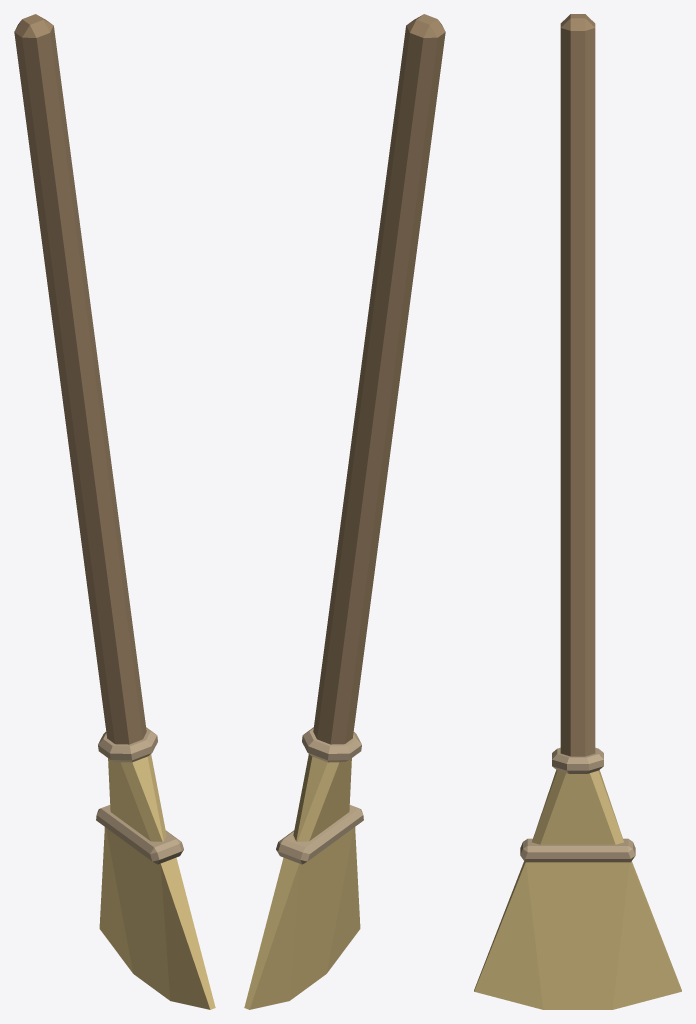
File: Prop_Broom.obj
3 renders of one model, left to right at view 1: azimuth 30°, elevation 25°; view 2: azimuth 150°, elevation 25°; view 3: azimuth 270°, elevation 25°, orthographic. The views are drawn at different scales.
Parts seen in each view (by area): view 1: object1; view 2: object1; view 3: object1.
Boxes of the visible parts, x1=… form: object1: x1=14, y1=14, x2=215, y2=1009; object1: x1=244, y1=14, x2=445, y2=1009; object1: x1=474, y1=14, x2=681, y2=1009.
Size of the model in its own units: 0.1245 by 0.7946 by 0.16.
